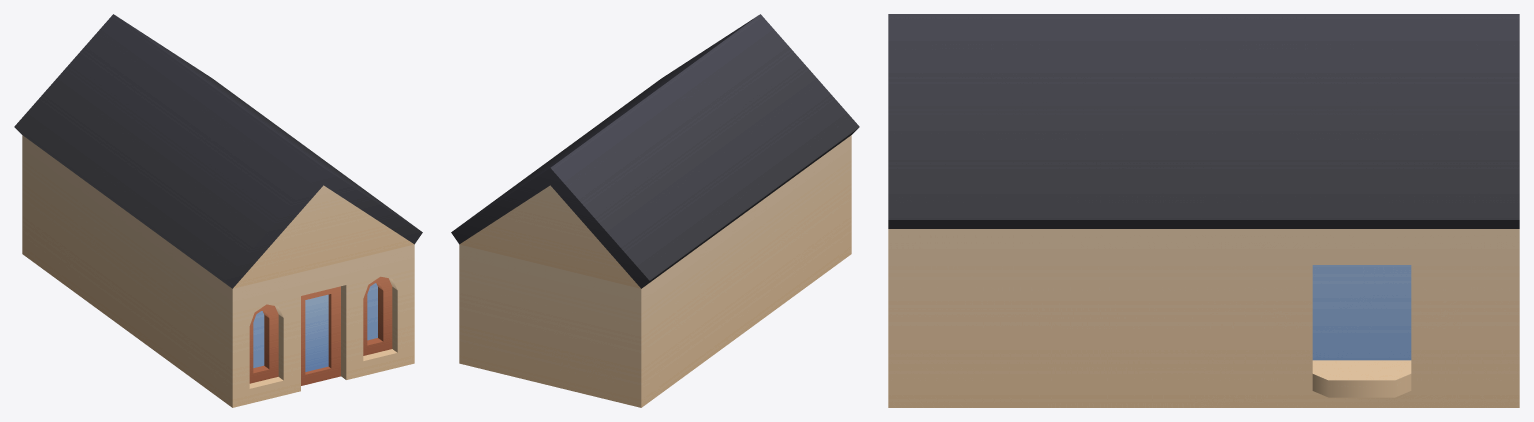
The model's file is building-sample-house-a.glb.
The picture shows the model from 3 angles, left to right: view 1: azimuth 30°, elevation 25°; view 2: azimuth 150°, elevation 25°; view 3: azimuth 270°, elevation 25°; orthographic projection. The views are drawn at different scales.
Visible parts, largest first — view 1: building-sample-house-a; view 2: building-sample-house-a; view 3: building-sample-house-a.
Boxes of the visible parts, left/top/right/bottom form: building-sample-house-a: left=14, top=14, right=422, bottom=407; building-sample-house-a: left=451, top=14, right=859, bottom=407; building-sample-house-a: left=888, top=14, right=1519, bottom=407.
Size of the model in its own units: 1.1 by 1.14 by 2.
1 material, 1 textured.
